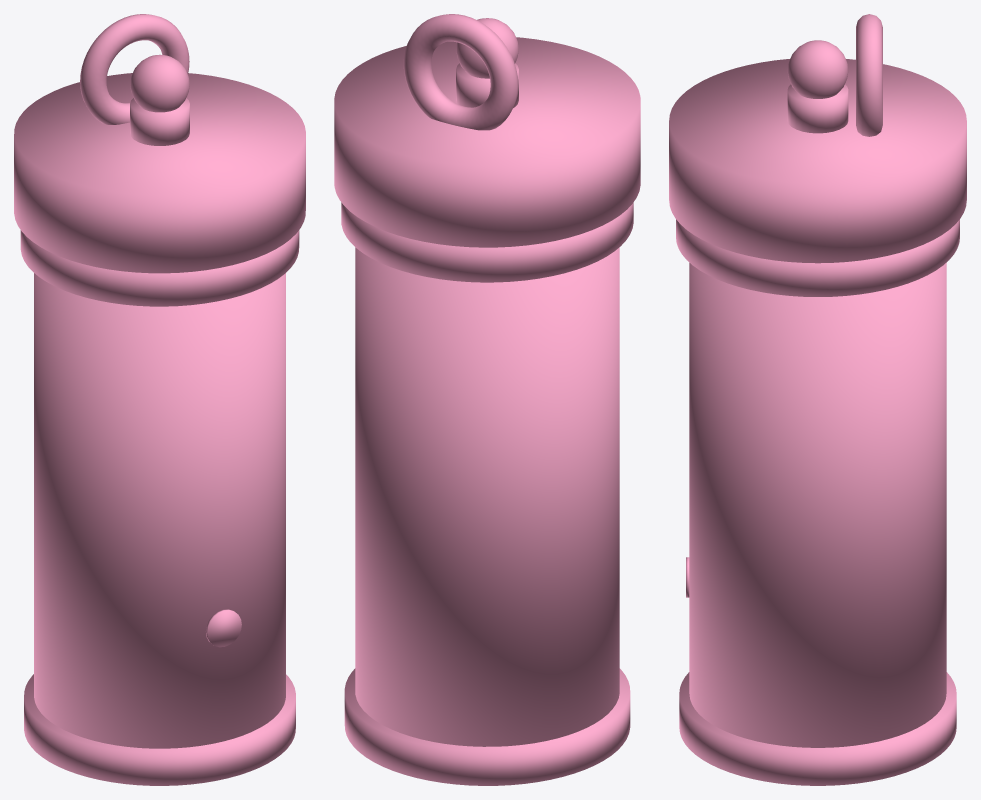
The model's file is pinkwaterbottle.fbx.
3 views of the same model, side by side, from view 1: azimuth 30°, elevation 25°; view 2: azimuth 150°, elevation 25°; view 3: azimuth 270°, elevation 25° (orthographic). The views are drawn at different scales.
Visible parts, largest first — view 1: PinkWaterBottle; view 2: PinkWaterBottle; view 3: PinkWaterBottle.
Boxes of the visible parts, left/top/right/bottom form: PinkWaterBottle: left=14, top=14, right=305, bottom=785; PinkWaterBottle: left=334, top=14, right=640, bottom=785; PinkWaterBottle: left=669, top=14, right=966, bottom=785.
Bounding box in the file's own units: 8.8 × 23.08 × 8.8.
